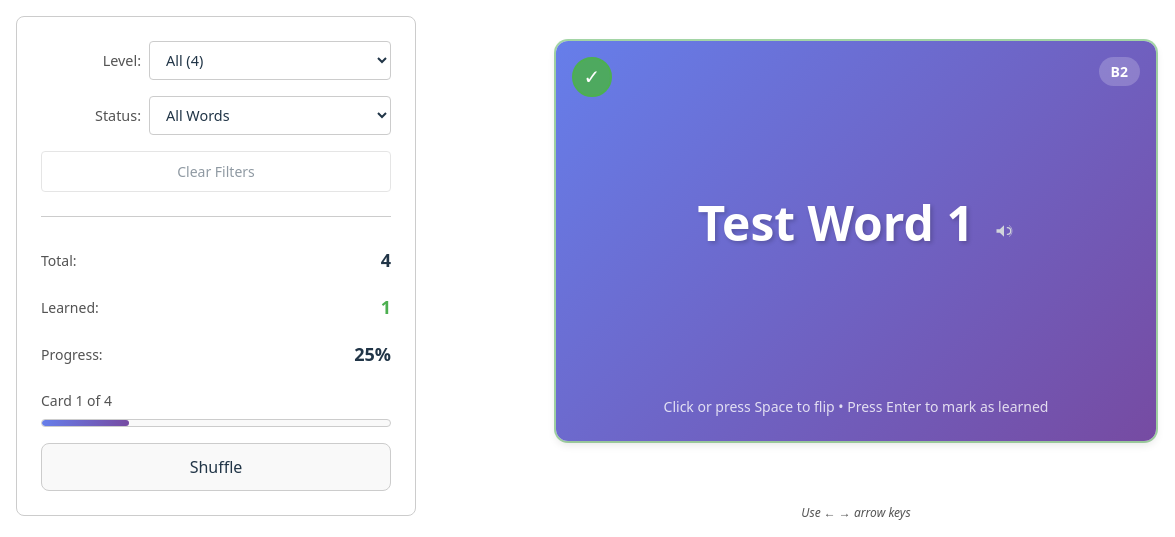
it: VocabularyPractice Filtering › filters by learned status
# Click "Learned" filter
Select "Learned (1)" in the dropdown labelled "Status:" at (270, 116), box [149,96,391,135]
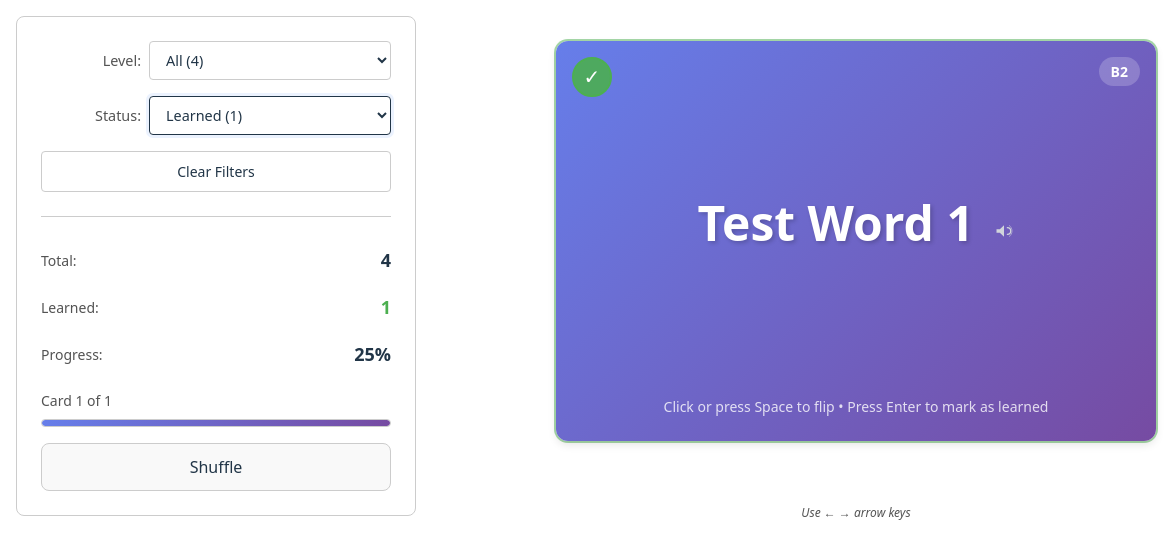
Expected: the text "Card 1 of 1" is shown, [41,391,112,410]
